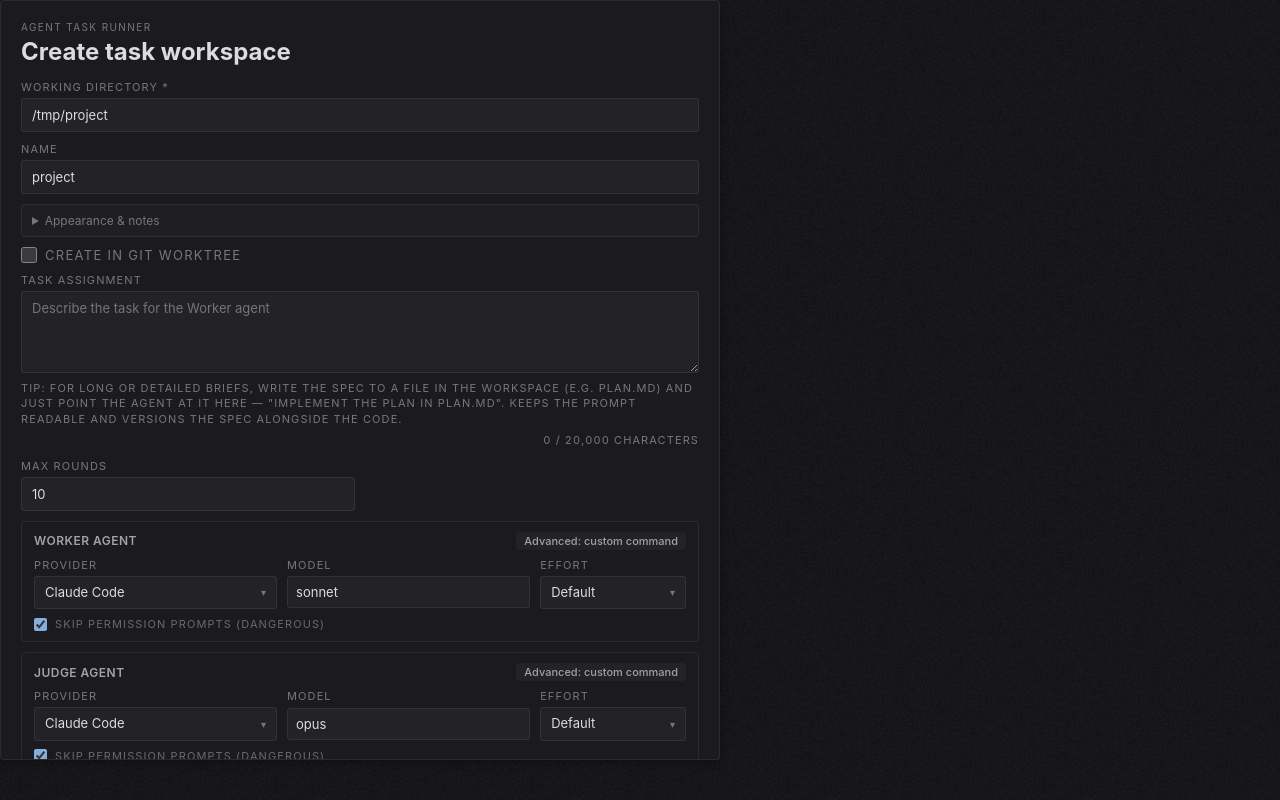
Test case: WorkspaceDialog › badge icon picker + AgentProviderConfig wiring › toggling advanced mode on the worker section swaps to a raw command input, independent of the judge section
Click the button with class "agent-config-section__advanced-btn" in the row of "Worker agent". click: {"x": 601, "y": 541}
box: [516,532,686,550]
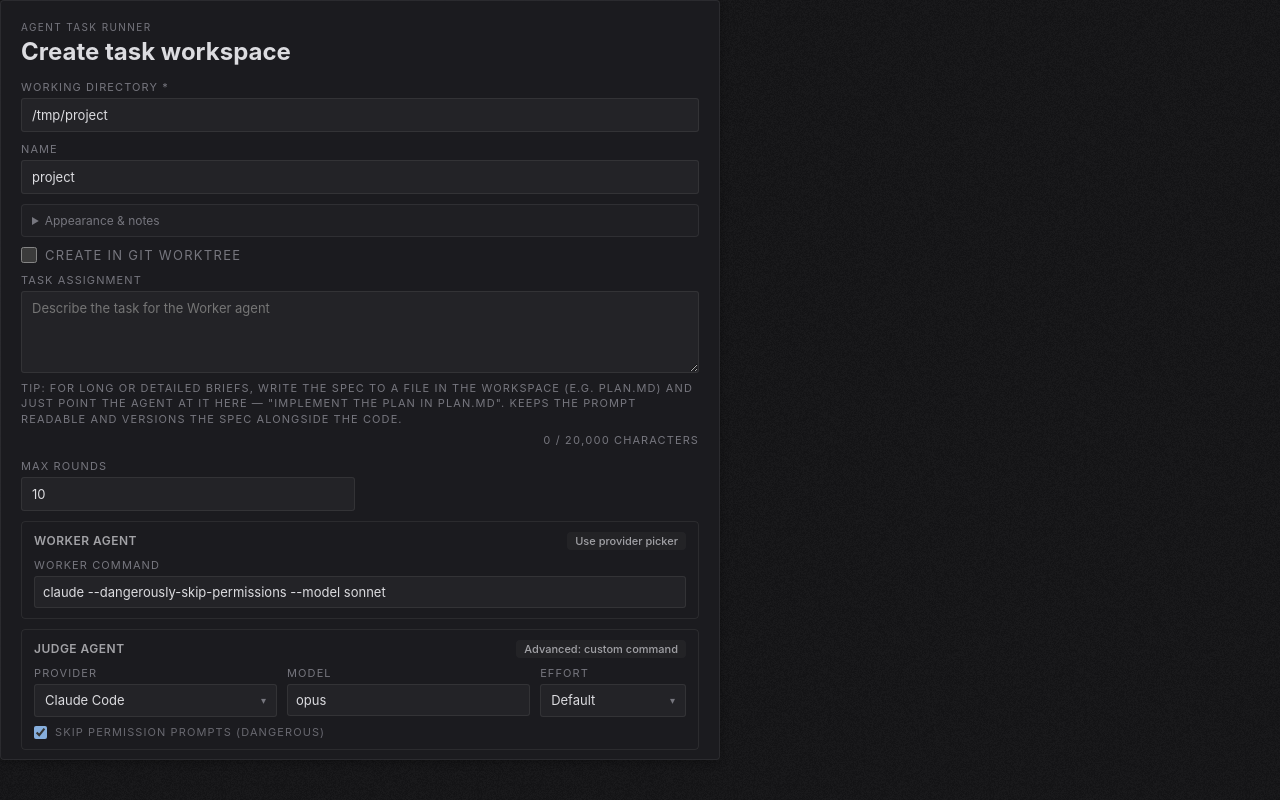
Expected: the button with class "agent-config-section__advanced-btn" reads "Advanced: custom command", [516,640,686,658]
Expected: the button with class "agent-config-section__advanced-btn" reads "Use provider picker", [567,532,686,550]
Expected: the field labelled "Worker command" holds "claude --dangerously-skip-permissions --model sonnet", [34,576,686,608]
